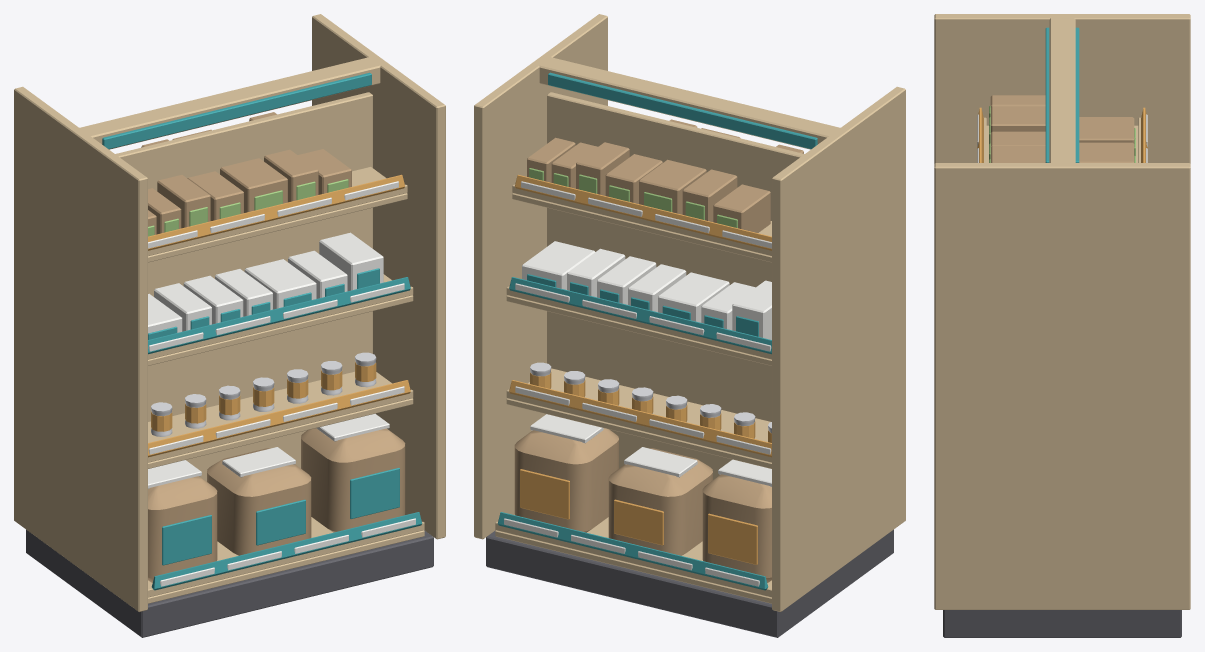
File: pet-shop-and-grooming-salon-gondola-shelving-unit-ply-7b957214__34568.glb
3 renders of one model, left to right at view 1: azimuth 30°, elevation 25°; view 2: azimuth 150°, elevation 25°; view 3: azimuth 270°, elevation 25°, orthographic. The views are drawn at different scales.
Visible parts, largest first — view 1: gondola-shelving-unit-ply; view 2: gondola-shelving-unit-ply; view 3: gondola-shelving-unit-ply.
Boxes of the visible parts, x1,y1,x2,y2 form: gondola-shelving-unit-ply: (14,14,445,637); gondola-shelving-unit-ply: (474,14,905,637); gondola-shelving-unit-ply: (934,14,1190,637).
Bounding box in the file's own units: 1.25 × 1.8 × 0.8801.
